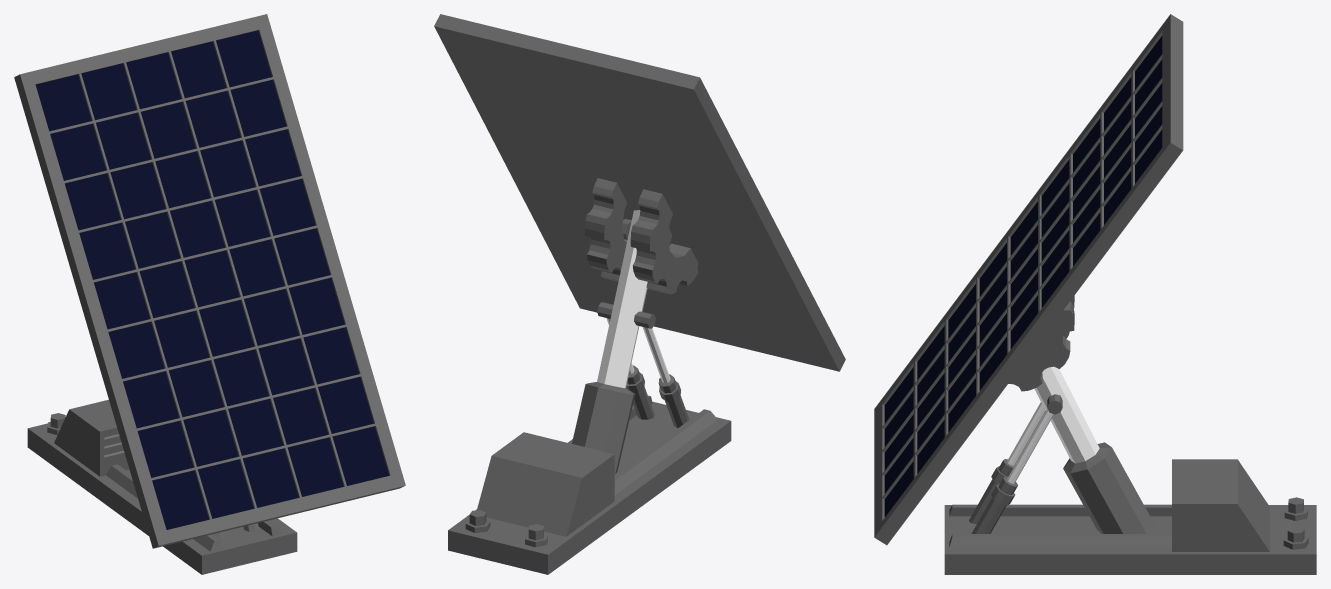
The model's file is SolarPanel1.FBX.
3 renders of one model, left to right at view 1: azimuth 30°, elevation 25°; view 2: azimuth 150°, elevation 25°; view 3: azimuth 270°, elevation 25°, orthographic. The views are drawn at different scales.
Visible parts, largest first — view 1: SolarPanel1; view 2: SolarPanel1; view 3: SolarPanel1.
Part boxes in pixels (left/top/right/bottom): SolarPanel1: left=14, top=14, right=405, bottom=574; SolarPanel1: left=434, top=14, right=845, bottom=574; SolarPanel1: left=874, top=14, right=1316, bottom=574.
Size of the model in its own units: 147 by 252 by 214.
